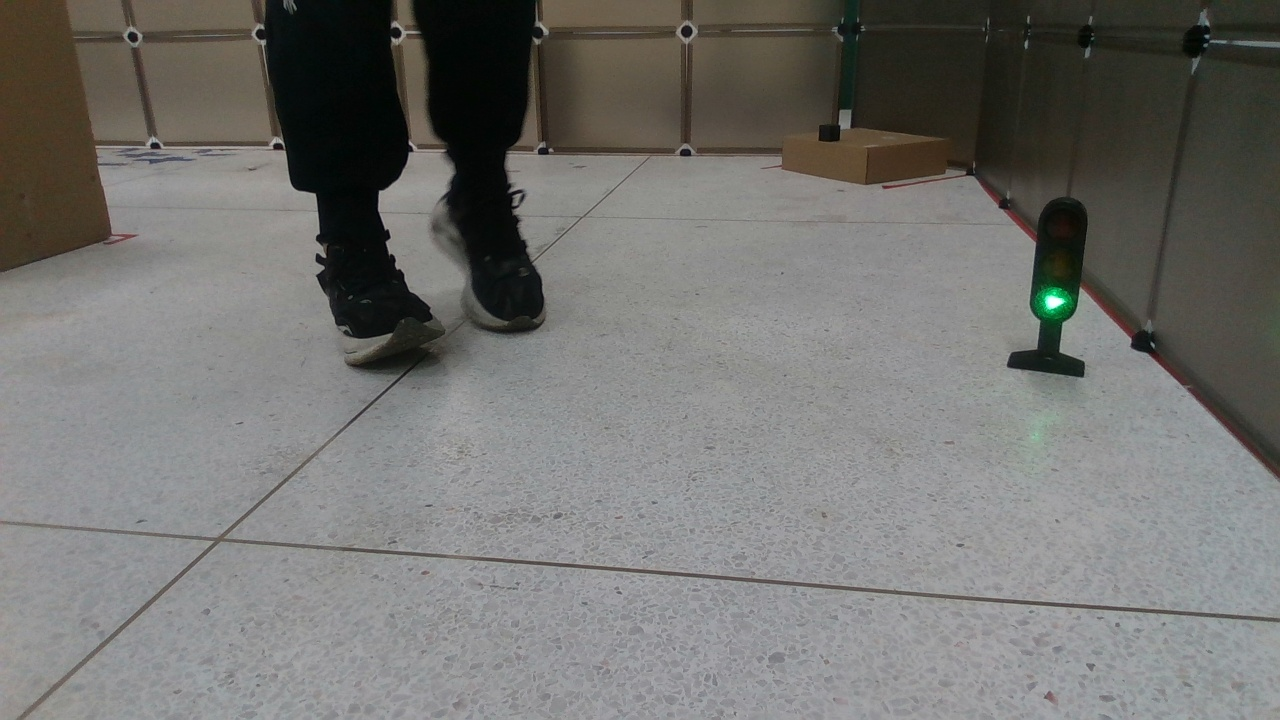Green traffic light: (1004, 194, 1091, 379)
